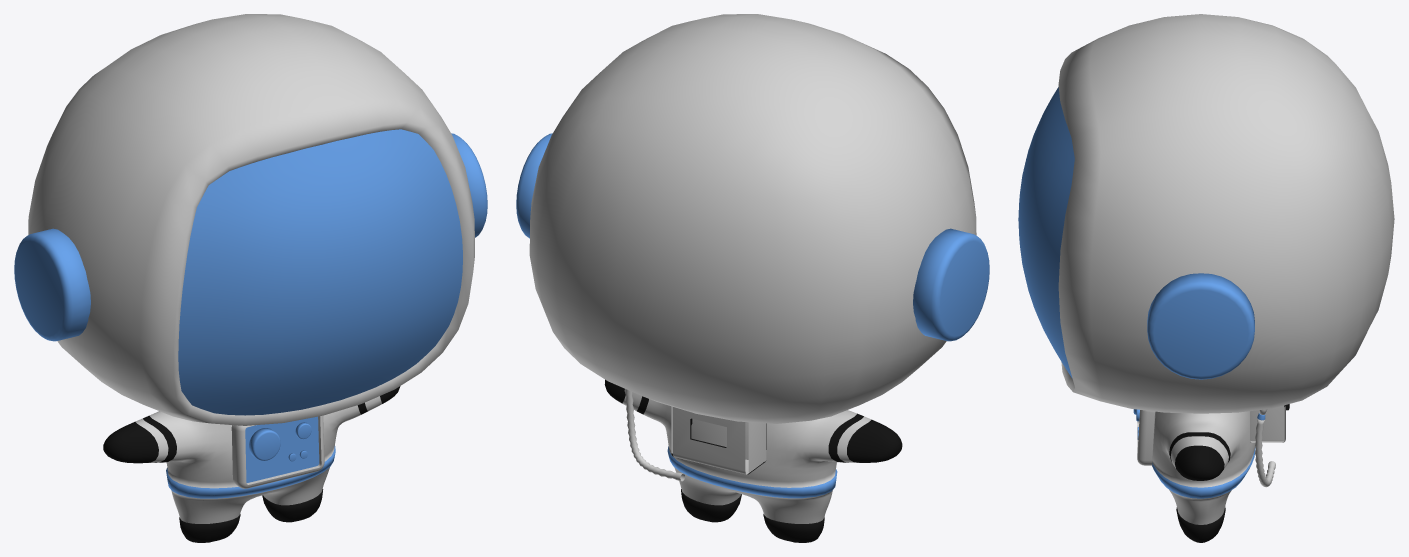
File: DDock3.glb
3 renders of one model, left to right at view 1: azimuth 30°, elevation 25°; view 2: azimuth 150°, elevation 25°; view 3: azimuth 270°, elevation 25°, orthographic. The views are drawn at different scales.
Visible parts, largest first — view 1: HEAD; view 2: HEAD; view 3: HEAD.
Boxes of the visible parts, left/top/right/bottom form: HEAD: left=14, top=14, right=487, bottom=542; HEAD: left=516, top=14, right=989, bottom=542; HEAD: left=1018, top=14, right=1394, bottom=542.
Bounding box in the file's own units: 0.7244 × 0.811 × 0.5732.
